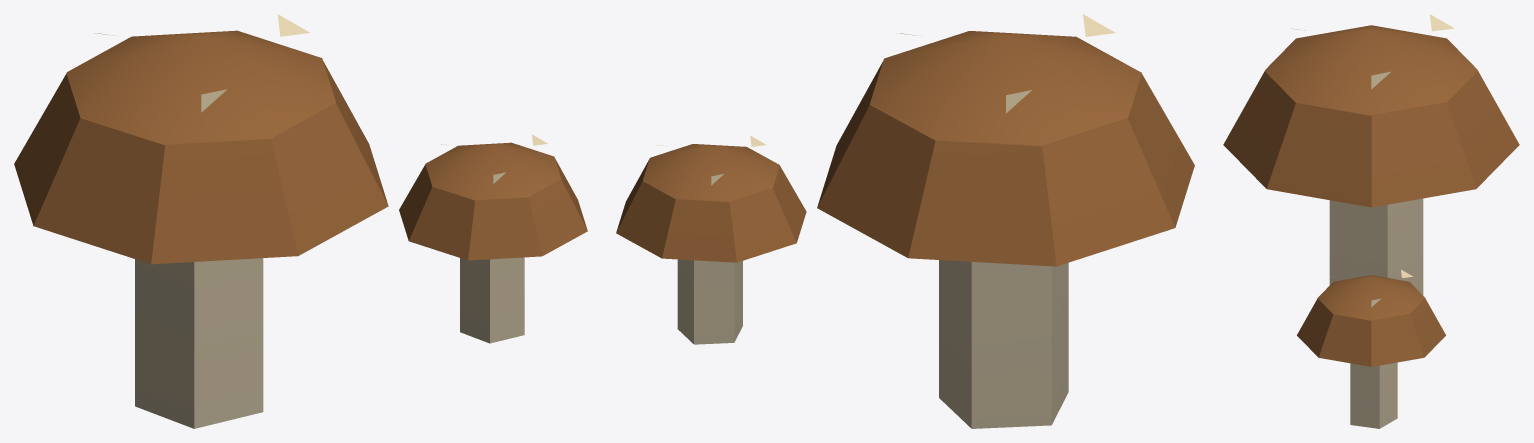
Rendered from mushroom_b.glb.
The picture shows the model from 3 angles, left to right: view 1: azimuth 30°, elevation 25°; view 2: azimuth 150°, elevation 25°; view 3: azimuth 270°, elevation 25°; orthographic projection. The views are drawn at different scales.
Parts seen in each view (by area): view 1: mushroom_b; view 2: mushroom_b; view 3: mushroom_b.
Boxes of the visible parts, x1,y1,x2,y2 form: mushroom_b: (14, 14, 587, 428); mushroom_b: (616, 14, 1194, 428); mushroom_b: (1223, 14, 1519, 428).
Bounding box in the file's own units: 0.373 × 0.2392 × 0.23.
